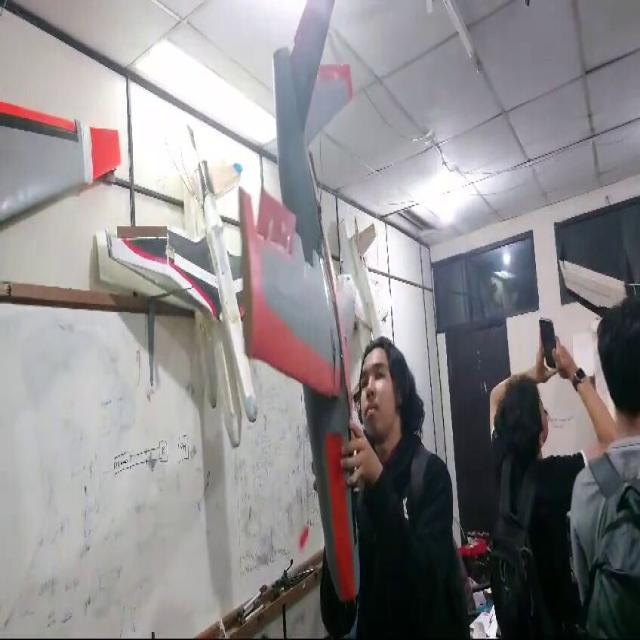plane: (0, 0, 380, 619)
